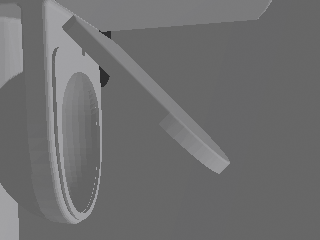lid_1: (62, 16, 230, 175)
